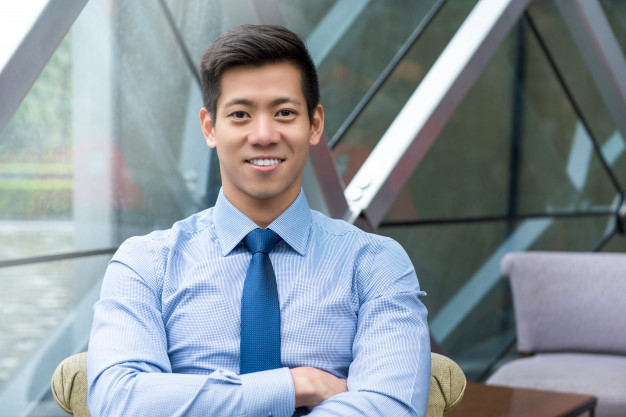bare: (217, 129, 312, 194)
